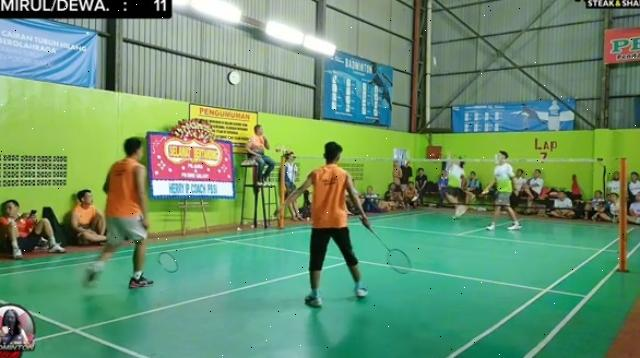Shuttlecock: (432, 56, 442, 68)
